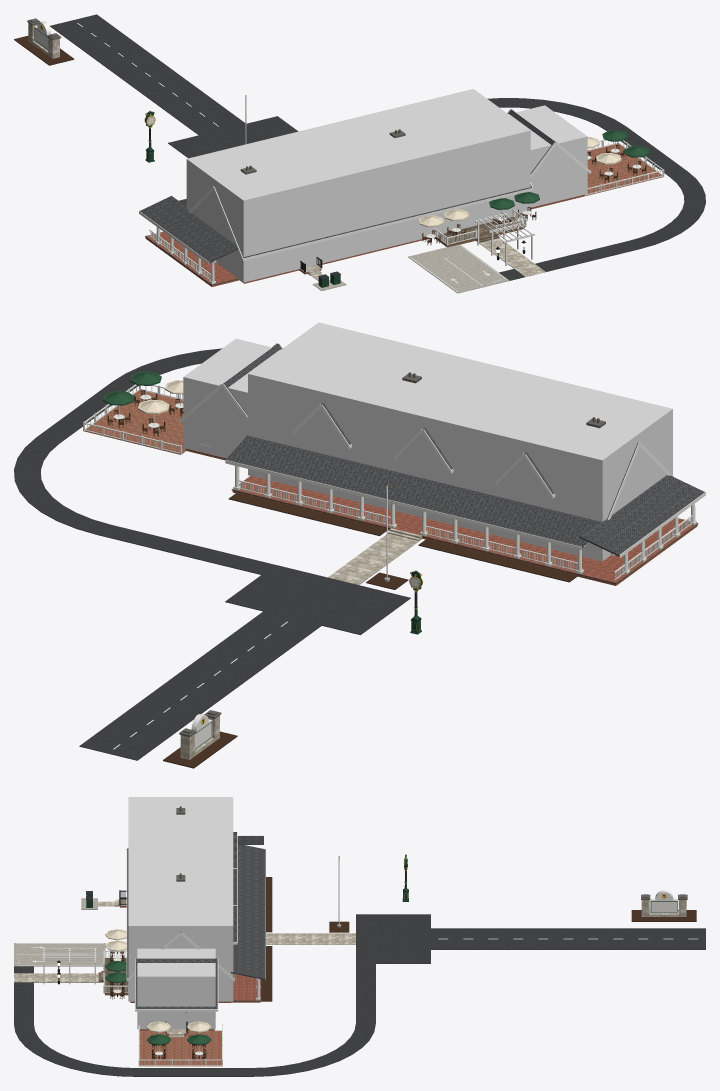
File: clubhouse_l2.gltf
The picture shows the model from 3 angles, top to bottom: view 1: azimuth 30°, elevation 25°; view 2: azimuth 150°, elevation 25°; view 3: azimuth 270°, elevation 25°; orthographic projection. The views are drawn at different scales.
Parts seen in each view (by area): view 1: COL_main, BASE, ROOF, COL_wing, WALLS_HIGH; view 2: COL_main, BASE, ROOF, COL_wing, WALLS_HIGH; view 3: BASE, COL_main, ROOF, COL_wing, WALLS_HIGH.
Part boxes in pixels (bbox=[...]): COL_main: bbox=[186, 89, 530, 282]; BASE: bbox=[14, 14, 705, 293]; ROOF: bbox=[139, 109, 591, 264]; COL_wing: bbox=[508, 105, 587, 207]; WALLS_HIGH: bbox=[149, 139, 664, 284]; COL_main: bbox=[248, 322, 672, 561]; BASE: bbox=[14, 348, 698, 768]; ROOF: bbox=[178, 343, 705, 558]; COL_wing: bbox=[183, 338, 280, 458]; WALLS_HIGH: bbox=[83, 384, 696, 579]; BASE: bbox=[14, 854, 705, 1076]; COL_main: bbox=[128, 797, 233, 1001]; ROOF: bbox=[126, 806, 265, 1011]; COL_wing: bbox=[137, 948, 215, 1029]; WALLS_HIGH: bbox=[103, 890, 260, 1066].
Size of the model in its own units: 61.23 by 10.95 by 83.01.
45 materials, 12 textured.
